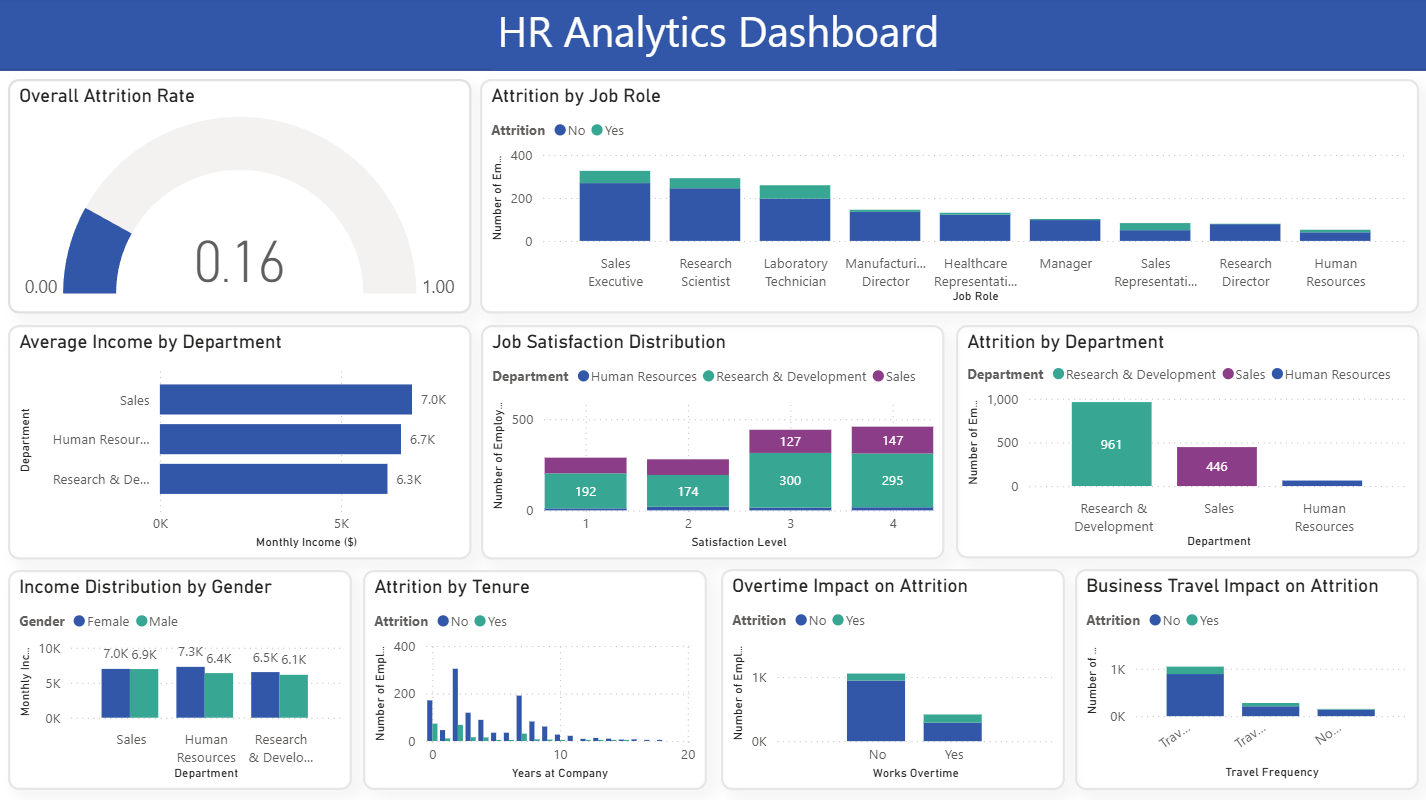

The page's visual inventory and layout, read from the dashboard file:
{"tool":"powerbi","page":{"name":"Page 1","canvas":[1280,720],"ordinal":0},"visuals":[{"type":"gauge","title":"Overall Attrition Rate","fields":{"Y":["HR Data.Attrition Rate"]},"box":[9,73,415,210],"z":0},{"type":"columnChart","title":"Attrition by Department","fields":{"Category":["HR Data.Department"],"Y":["CountNonNull(HR Data.Attrition)"],"Series":["HR Data.Department"]},"box":[857.7,293.8,415.4,209.2],"z":1000},{"type":"clusteredBarChart","title":"Average Income by Department","fields":{"Category":["HR Data.Department"],"Y":["Avg(HR Data.MonthlyIncome)"]},"box":[9.2,293.8,415.4,210],"z":2000},{"type":"columnChart","title":"Job Satisfaction Distribution","fields":{"Category":["HR Data.JobSatisfaction"],"Y":["CountNonNull(HR Data.MonthlyIncome)"],"Series":["HR Data.Department"]},"box":[432.3,293.8,415.4,210],"z":3000},{"type":"columnChart","title":"Attrition by Job Role","fields":{"Category":["HR Data.JobRole"],"Y":["CountNonNull(HR Data.Attrition)"],"Series":["HR Data.Attrition"]},"box":[432,73,841,210],"z":4000},{"type":"clusteredColumnChart","title":"Income Distribution by Gender","fields":{"Category":["HR Data.Department"],"Y":["Avg(HR Data.MonthlyIncome)"],"Series":["HR Data.Gender"]},"box":[9.1,512.7,308.2,197.3],"z":5000},{"type":"clusteredColumnChart","title":"Attrition by Tenure","fields":{"Category":["HR Data.YearsInCurrentRole"],"Y":["CountNonNull(HR Data.Attrition)"],"Series":["HR Data.Attrition"]},"box":[327.1,512.9,307.9,197.1],"z":6000},{"type":"columnChart","title":"Business Travel Impact on Attrition","fields":{"Category":["HR Data.BusinessTravel"],"Y":["CountNonNull(HR Data.Attrition)"],"Series":["HR Data.Attrition"]},"box":[964.4,512.2,308.3,197.8],"z":7000},{"type":"columnChart","title":"Overtime Impact on Attrition","fields":{"Category":["HR Data.OverTime"],"Y":["CountNonNull(HR Data.Attrition)"],"Series":["HR Data.Attrition"]},"box":[647.3,511.8,308.2,198.2],"z":8000},{"type":"shape","box":[0,0,1280,66],"z":9000},{"type":"textbox","box":[442,0,416,66],"z":14500}]}

Visuals, with their boxes in screenshot pixels (x1, y1, x2, y2), scaled from the page's 1280x720 canvas onto the 1426x800 screenshot:
"Overall Attrition Rate" gauge: rect(10, 81, 472, 314)
"Attrition by Department" columnChart: rect(956, 326, 1418, 559)
"Average Income by Department" clusteredBarChart: rect(10, 326, 473, 560)
"Job Satisfaction Distribution" columnChart: rect(482, 326, 944, 560)
"Attrition by Job Role" columnChart: rect(481, 81, 1418, 314)
"Income Distribution by Gender" clusteredColumnChart: rect(10, 570, 353, 789)
"Attrition by Tenure" clusteredColumnChart: rect(364, 570, 707, 789)
"Business Travel Impact on Attrition" columnChart: rect(1074, 569, 1418, 789)
"Overtime Impact on Attrition" columnChart: rect(721, 569, 1064, 789)
shape: rect(0, 0, 1425, 73)
textbox: rect(492, 0, 956, 73)
